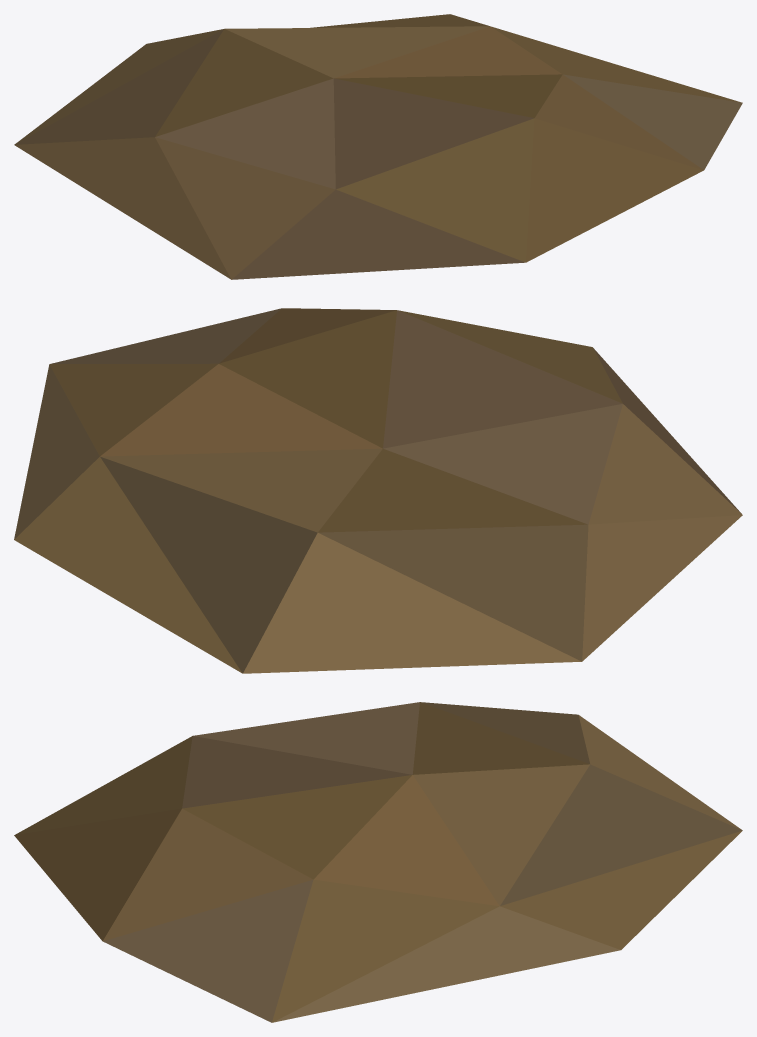
Rendered from DirtPatch02.glb.
3 renders of one model, top to bottom at view 1: azimuth 30°, elevation 25°; view 2: azimuth 150°, elevation 25°; view 3: azimuth 270°, elevation 25°, orthographic. The views are drawn at different scales.
Visible parts, largest first — view 1: DirtPatch02; view 2: DirtPatch02; view 3: DirtPatch02.
Part boxes in pixels (left/top/right/bottom): DirtPatch02: left=14, top=14, right=742, bottom=279; DirtPatch02: left=14, top=308, right=742, bottom=673; DirtPatch02: left=14, top=702, right=742, bottom=1022.
Size of the model in its own units: 0.653 by 0.1002 by 0.6474.
